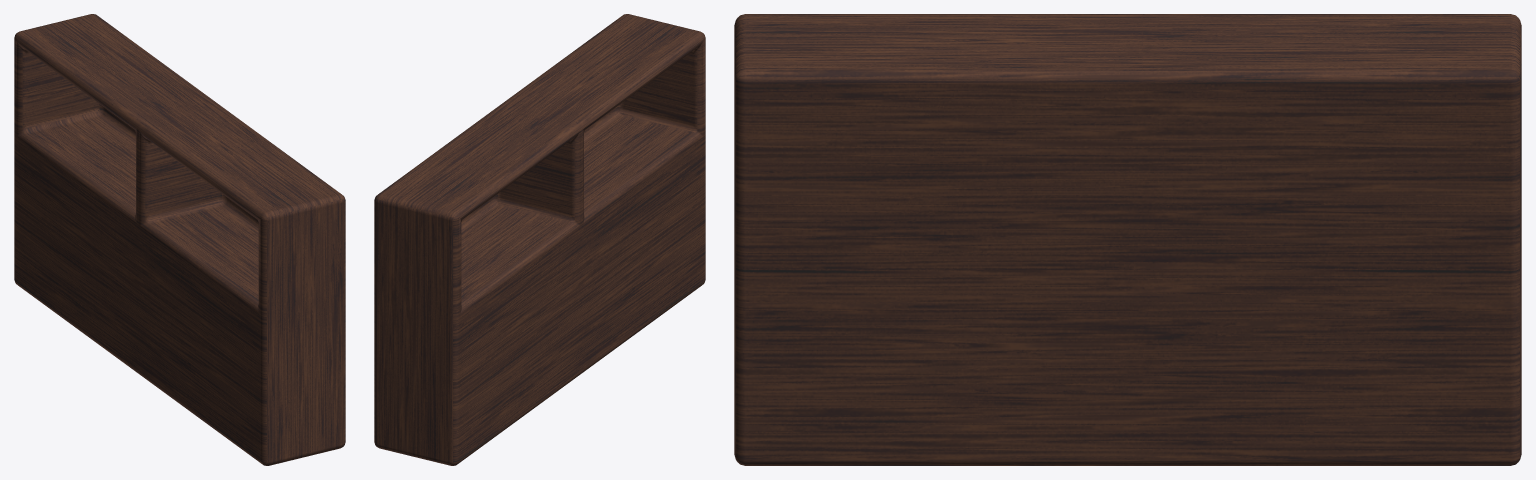
File: cabecera.obj
3 renders of one model, left to right at view 1: azimuth 30°, elevation 25°; view 2: azimuth 150°, elevation 25°; view 3: azimuth 270°, elevation 25°, orthographic. The views are drawn at different scales.
Parts seen in each view (by area): view 1: mueble_cama; view 2: mueble_cama; view 3: mueble_cama.
Boxes of the visible parts, <box> form: mueble_cama: <box>14,14,345,465</box>; mueble_cama: <box>374,14,705,465</box>; mueble_cama: <box>734,14,1521,465</box>.
Bounding box in the file's own units: 0.24 × 0.693 × 1.25.
